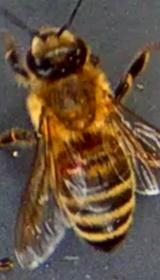varroa_mite: (46, 146, 88, 186)
